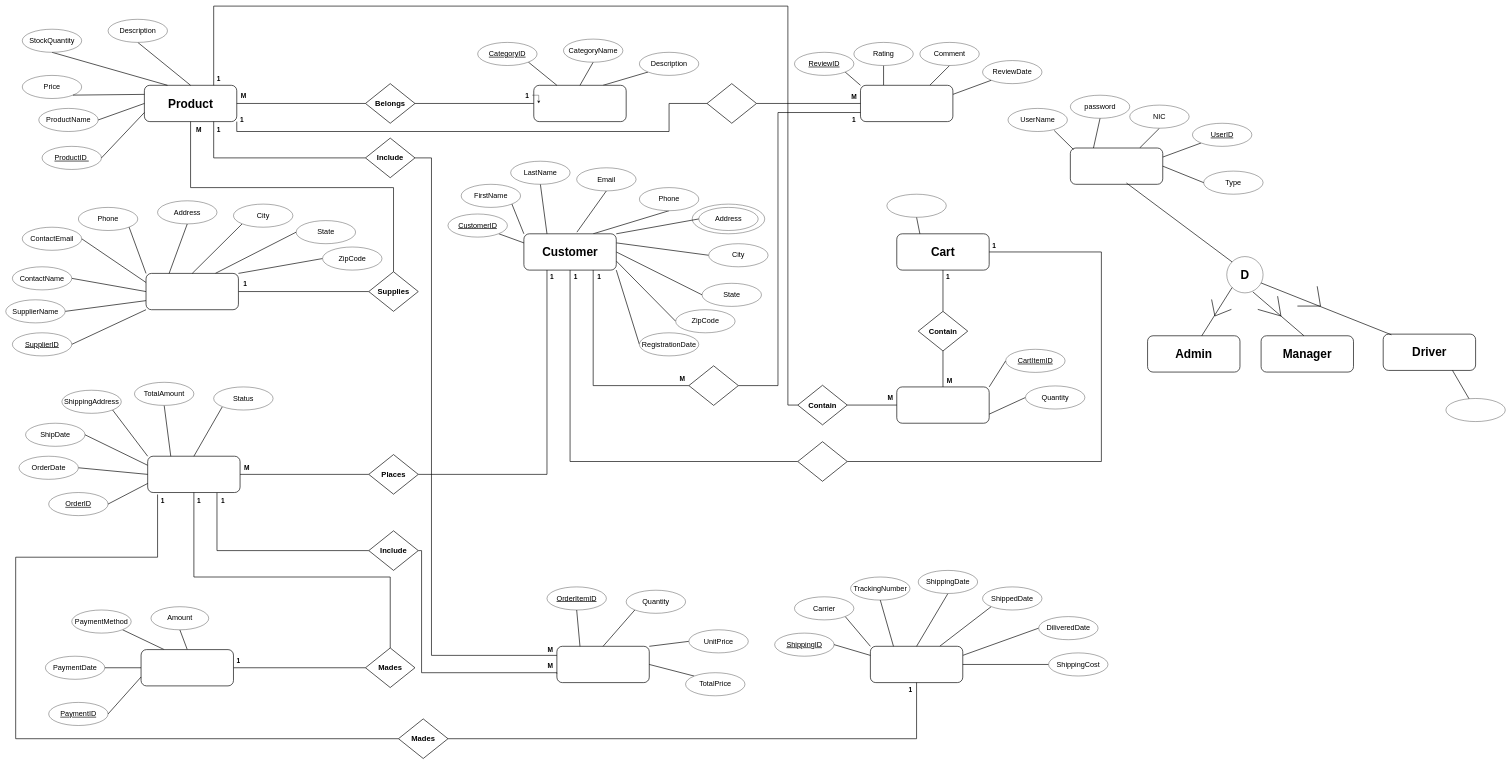
Image size: 1511x764. Some labels were removed from this diagram. The centre of each missing label's shape, as x and y in pixels:
"CartID" belongs at [916,205].
"CartItem" belongs at [942,404].
"Category" belongs at [579,103].
"Has" belongs at [822,461].
"Have" belongs at [732,103].
"Leave" belongs at [713,385].
"LicenseNumber" belongs at [1475,410].
"Order" belongs at [193,474].
"OrderItem" belongs at [602,664].
"Payment" belongs at [187,667].
"Review" belongs at [906,103].
"Shipping" belongs at [916,664].
"Supplier" belongs at [192,291].
"User" belongs at [1116,166].
